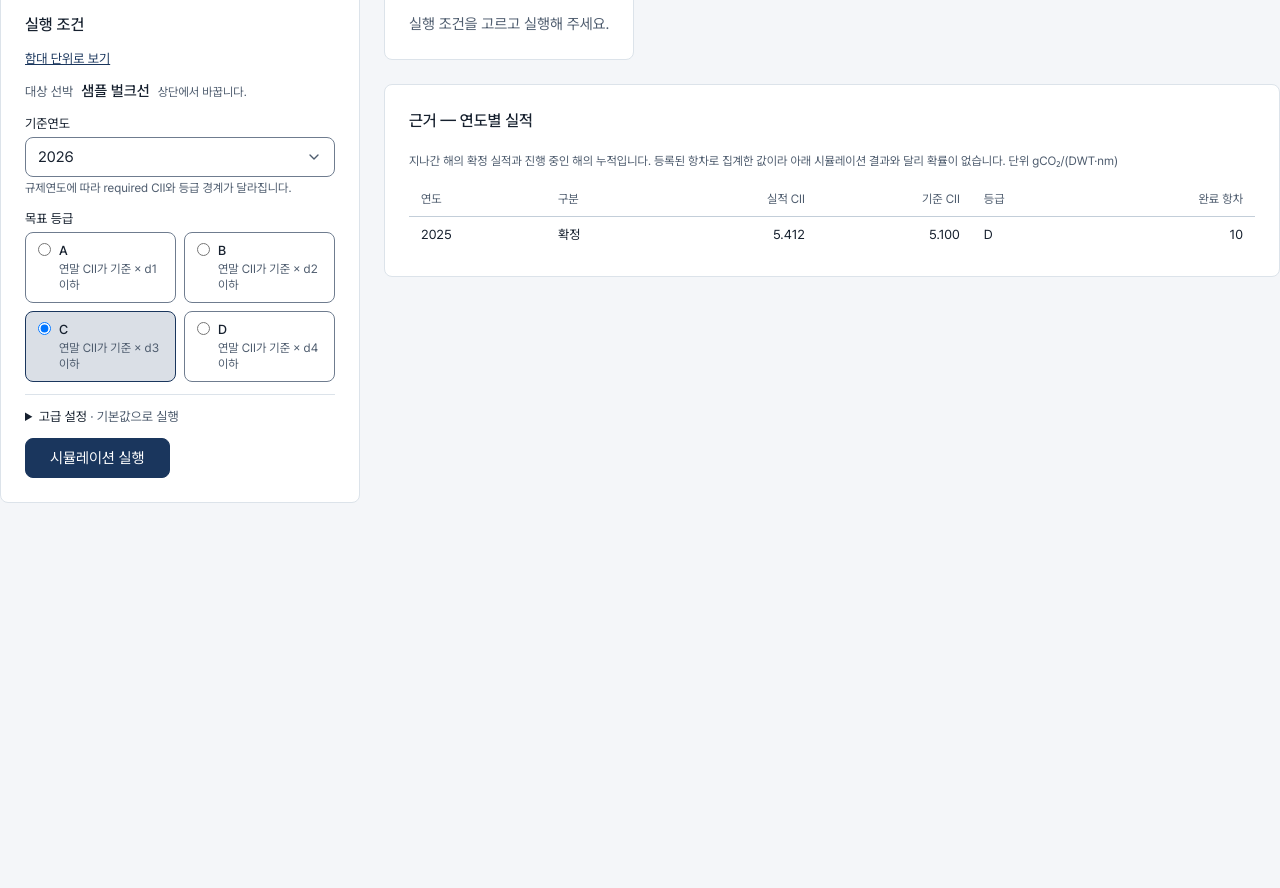
Test case: 이 seed로 다시 실행 (#776) › 재현하지 못하면 서버가 준 사유를 그대로 보인다
This screenshot has width=1280, height=888.
Click the button "시뮬레이션 실행".
click(97, 458)  # box x1=25 y1=438 x2=170 y2=478
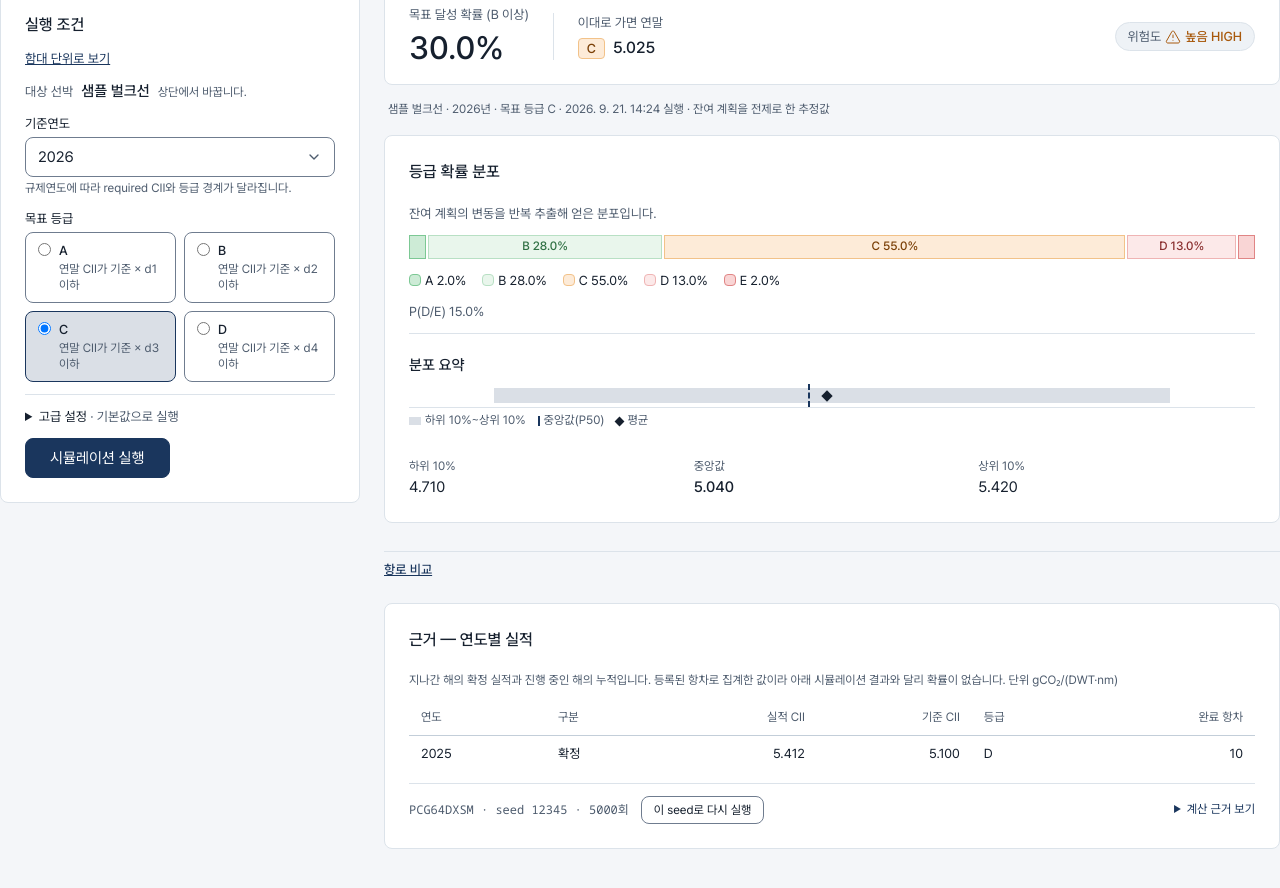
Click the button "이 seed로 다시 실행".
click(703, 810)  # box x1=641 y1=796 x2=764 y2=824
(page scrolled)
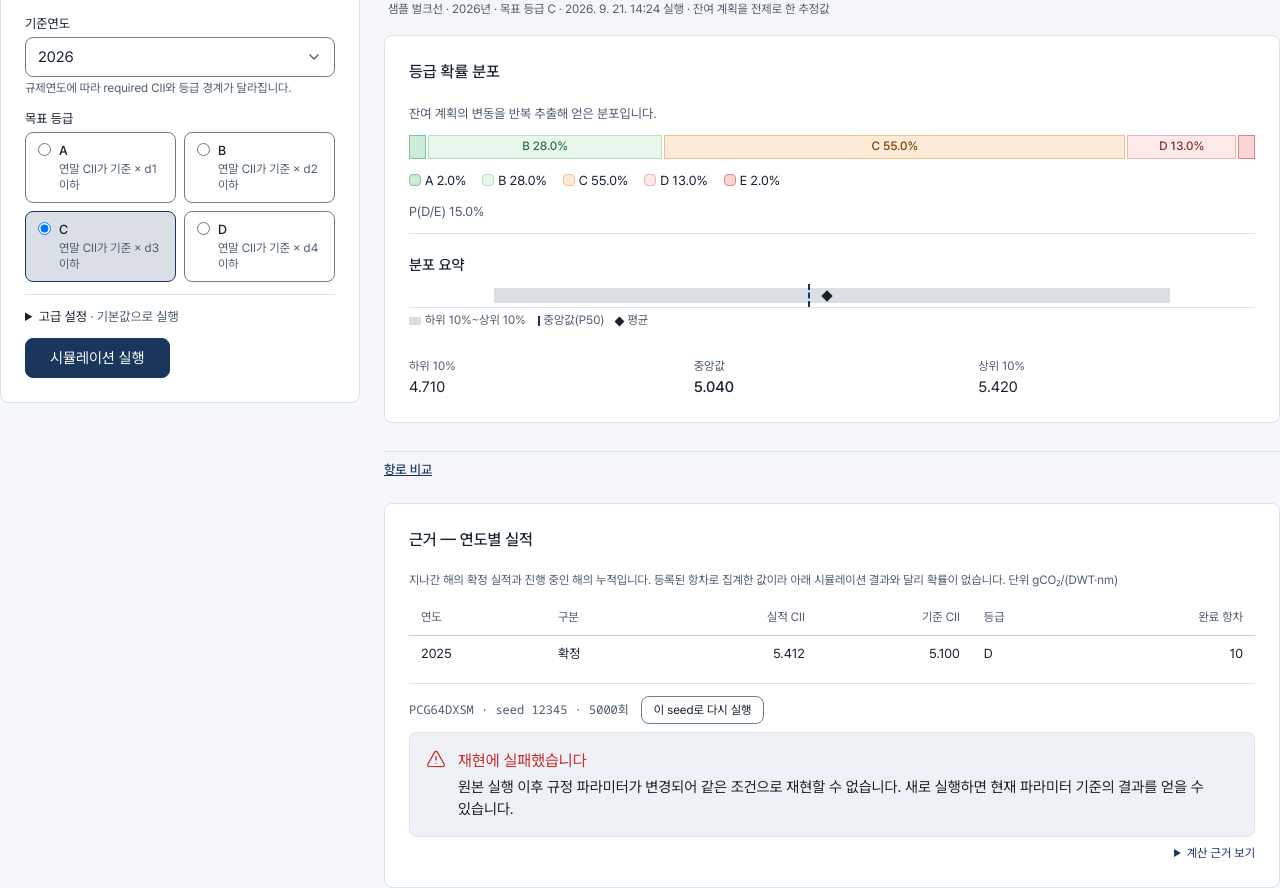
Expected: the message shows "재현에 실패했습니다", x1=458 y1=751 x2=586 y2=770
